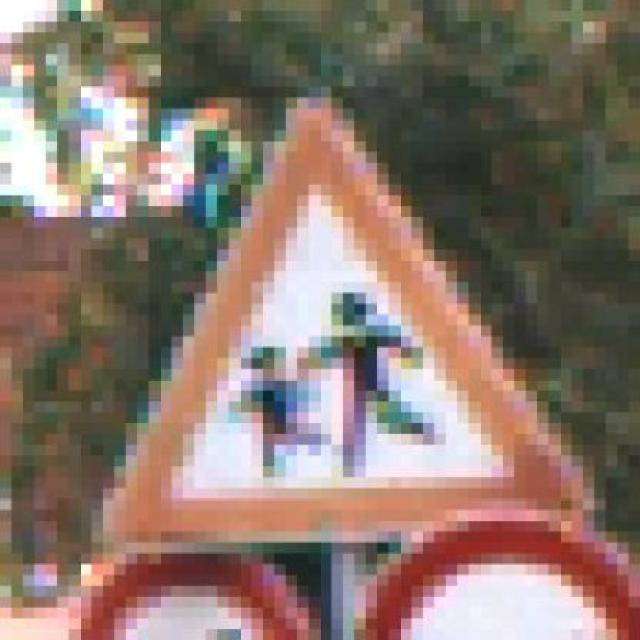Beware of children: (57, 76, 617, 553)
